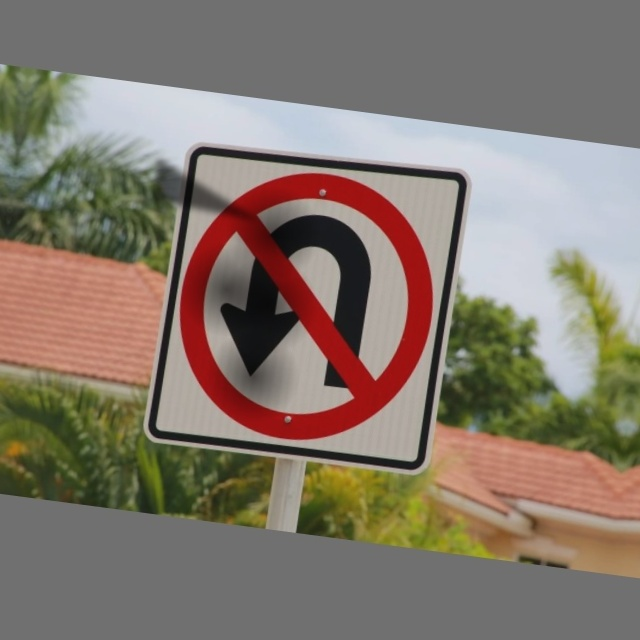U_Turn_Prohibited: (163, 150, 458, 461)
